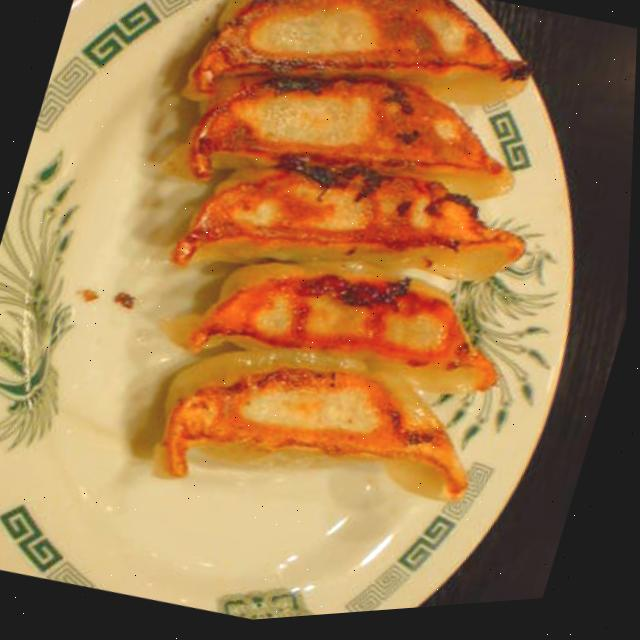带馅早点: (49, 0, 611, 618)
